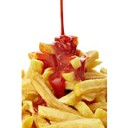frenchfries: (25, 34, 108, 128)
